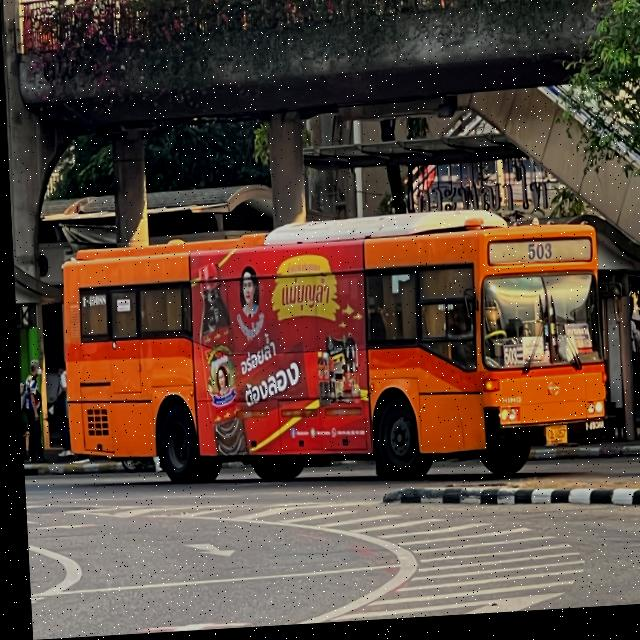BMTA-bus: (58, 216, 605, 487)
Bus Line Number: (519, 243, 554, 269)
Bus Side Number: (579, 424, 600, 441)
Destination Sign: (561, 328, 589, 361)
